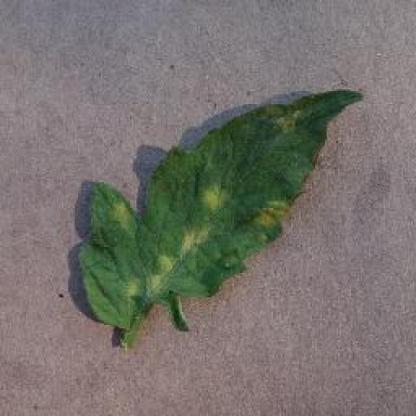Tomato_Leaf_Mold: (84, 89, 363, 322)
